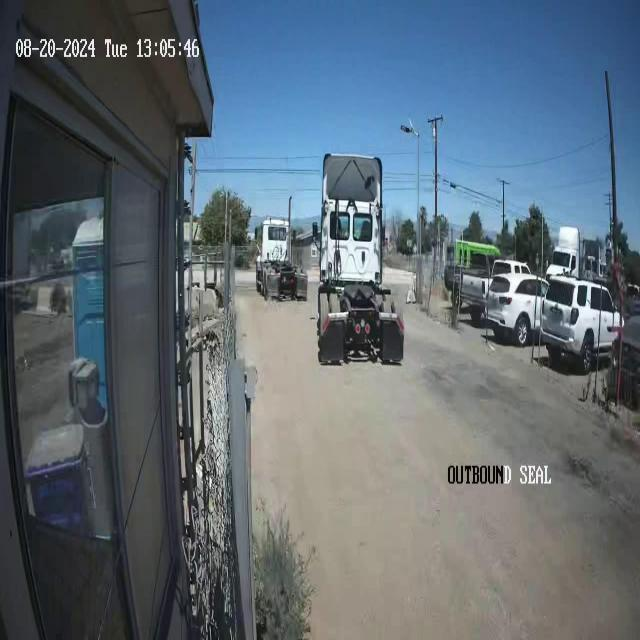BOBTAIL: (310, 152, 404, 366), (254, 197, 309, 303)
